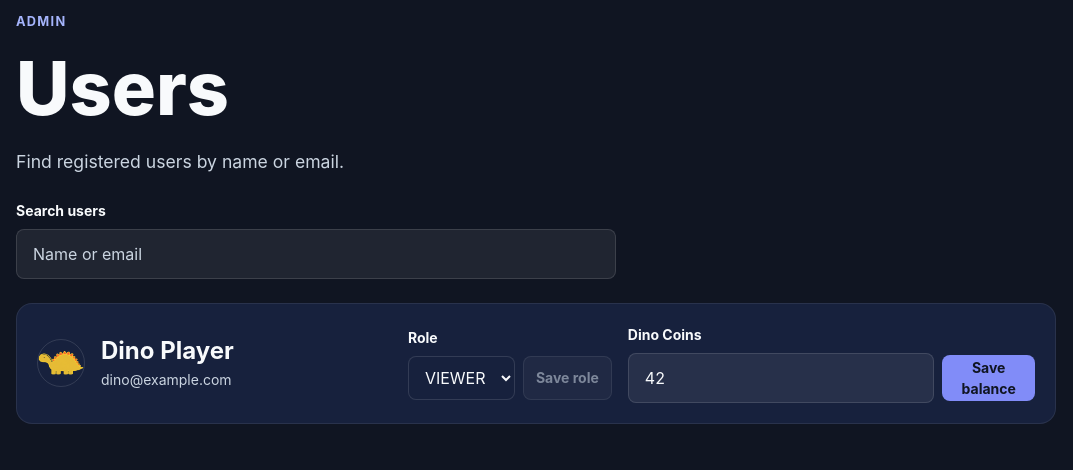
Test: AdminUsersPage Dino Coin management › keeps the entered balance and reports a server failure
This screenshot has width=1073, height=470.
Replace the text in the number field labelled "Dino Coins" with "250" at (781, 378), box [628,353,934,403]
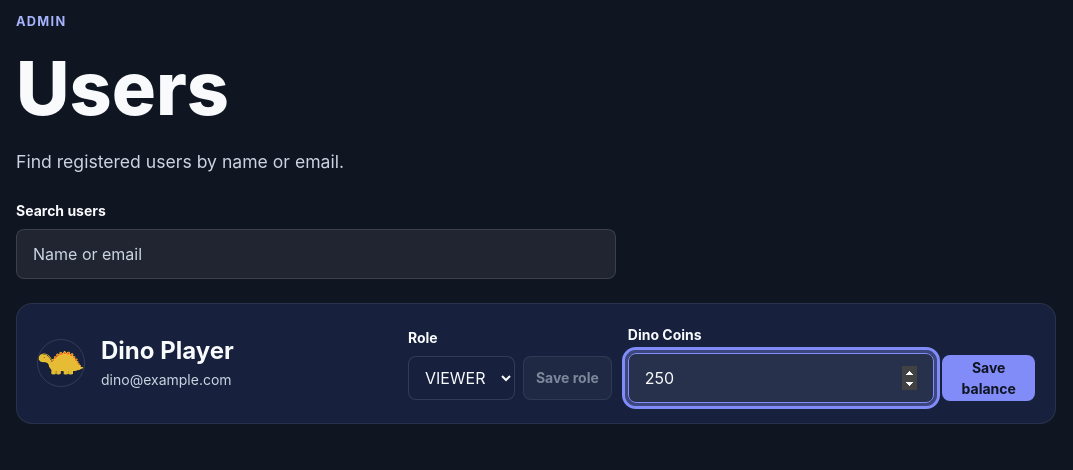
Click the button "Save balance" at (989, 378), box [942,355,1035,401]
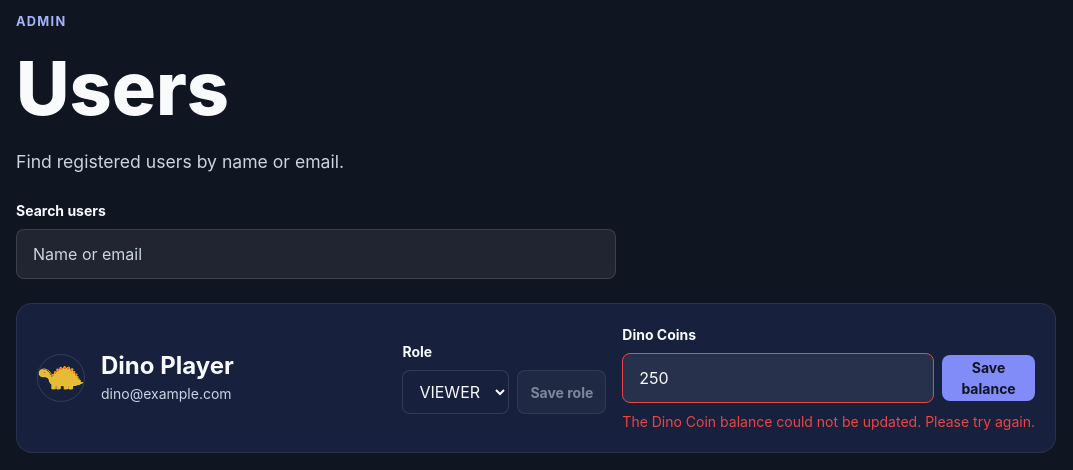
Check: the message "The Dino Coin balance could not be updated. Please try again." is shown, box [622,411,1035,432]
